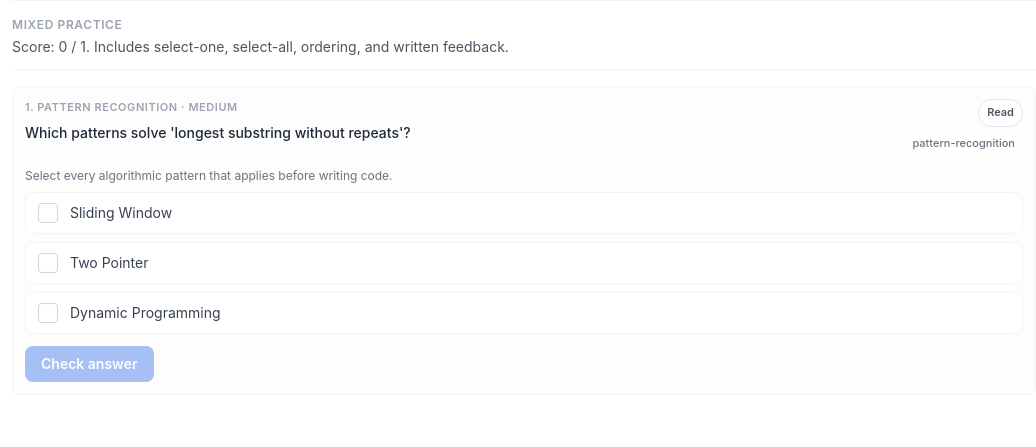
LessonPartPracticeSection pattern_recognition › renders the pattern grid and grades a correct primary selection
The width and height of the screenshot is (1036, 447).
Check: the text "Select every algorithmic pattern that applies" is shown, box [25,168,393,183]
Check: the button "Dynamic Programming" is shown, box [25,292,1023,334]
What coordinates should you click on to do the following:
click the button "Sliding Window"
I would click on:
 (121, 213)
Its box is [25,192,1023,234].
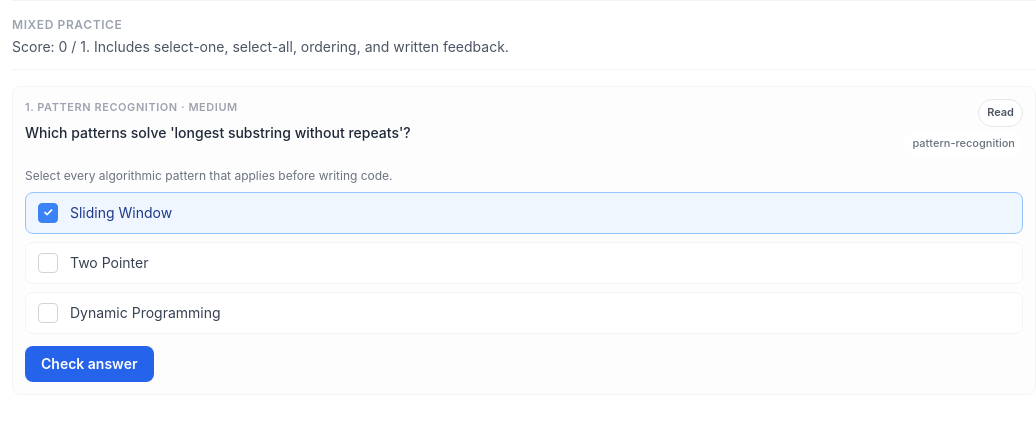
What coordinates should you click on to do the following:
click the button "Check answer"
I would click on:
 (89, 364)
Its box is [25,346,154,382].
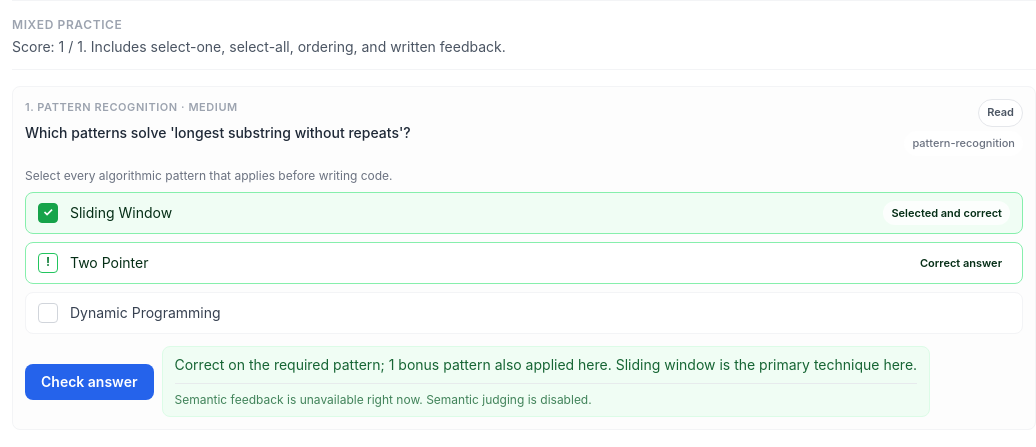
Check: the text "Correct on the required pattern" is shown, box [174,356,917,373]
